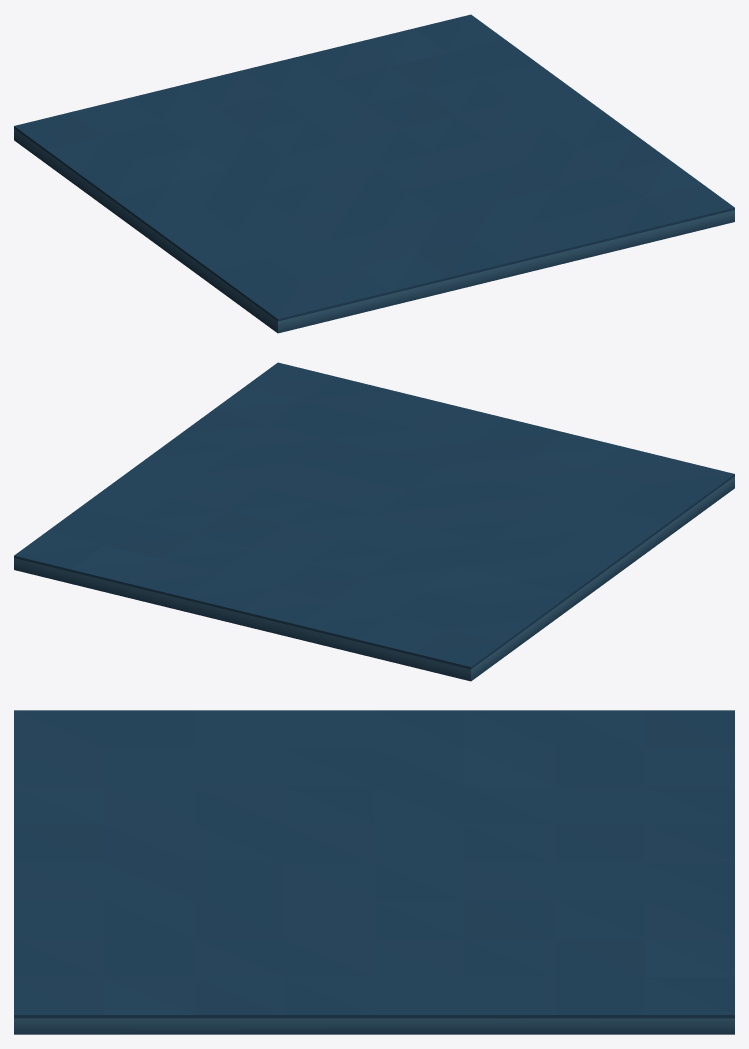
File: water-open-fjord.glb
3 renders of one model, top to bottom at view 1: azimuth 30°, elevation 25°; view 2: azimuth 150°, elevation 25°; view 3: azimuth 270°, elevation 25°, orthographic. The views are drawn at different scales.
Visible parts, largest first — view 1: water_open_fjord; view 2: water_open_fjord; view 3: water_open_fjord.
Part boxes in pixels (<box>): water_open_fjord: <box>14,14,734,333</box>; water_open_fjord: <box>14,362,734,681</box>; water_open_fjord: <box>14,710,734,1034</box>.
Bounding box in the file's own units: 4 × 0.1199 × 4.
